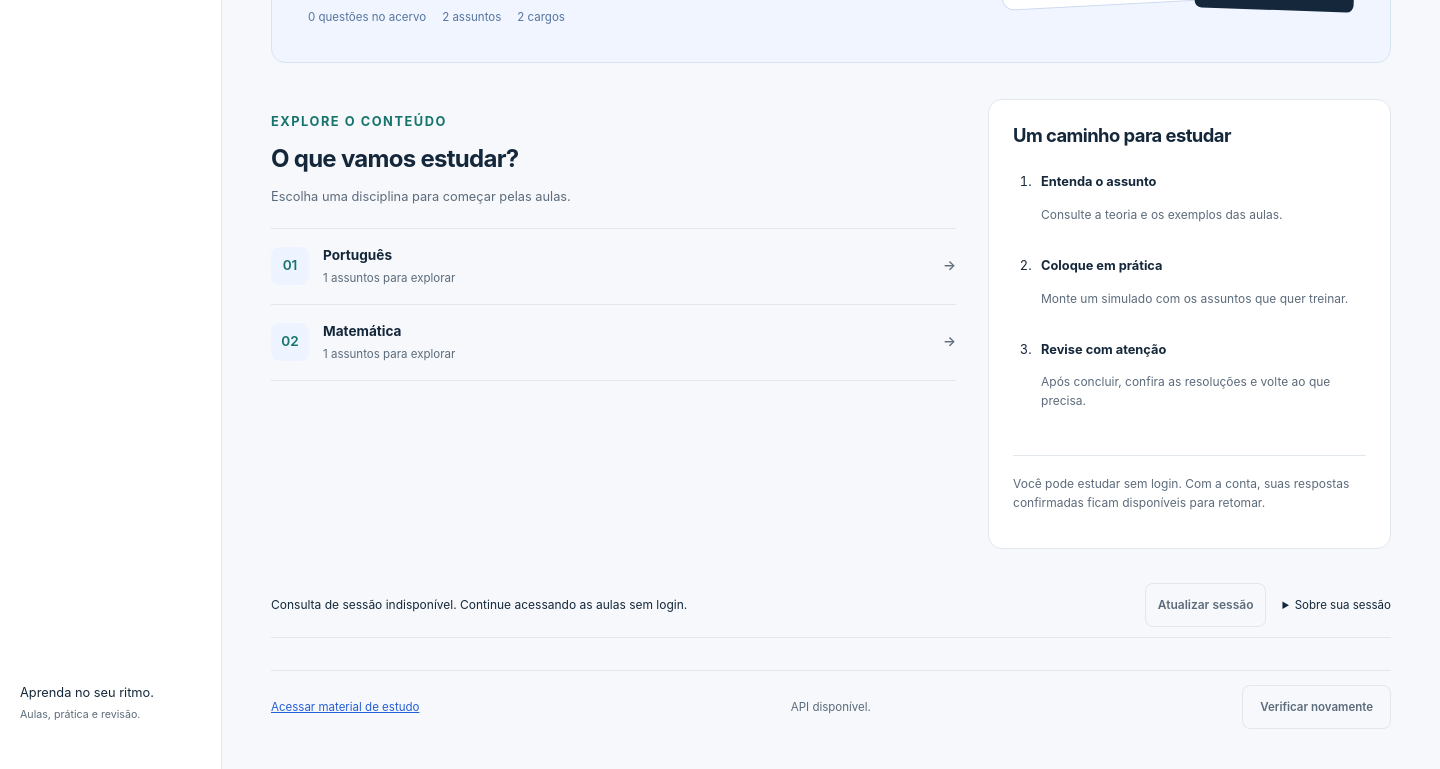
UI recupera de JSON pendente em /auth/config e mantém aulas/retry
The image size is (1440, 769).
(page scrolled)
Check: the link "Acessar material de estudo" is shown, box x1=271 y1=698 x2=419 y2=716
Check: the text "Consulta de sessão indisponível. Continue acessando as aulas sem login." is shown, box x1=271 y1=595 x2=687 y2=615
Click the button "Atualizar sessão" at (1206,605), box x1=1145 y1=583 x2=1266 y2=627
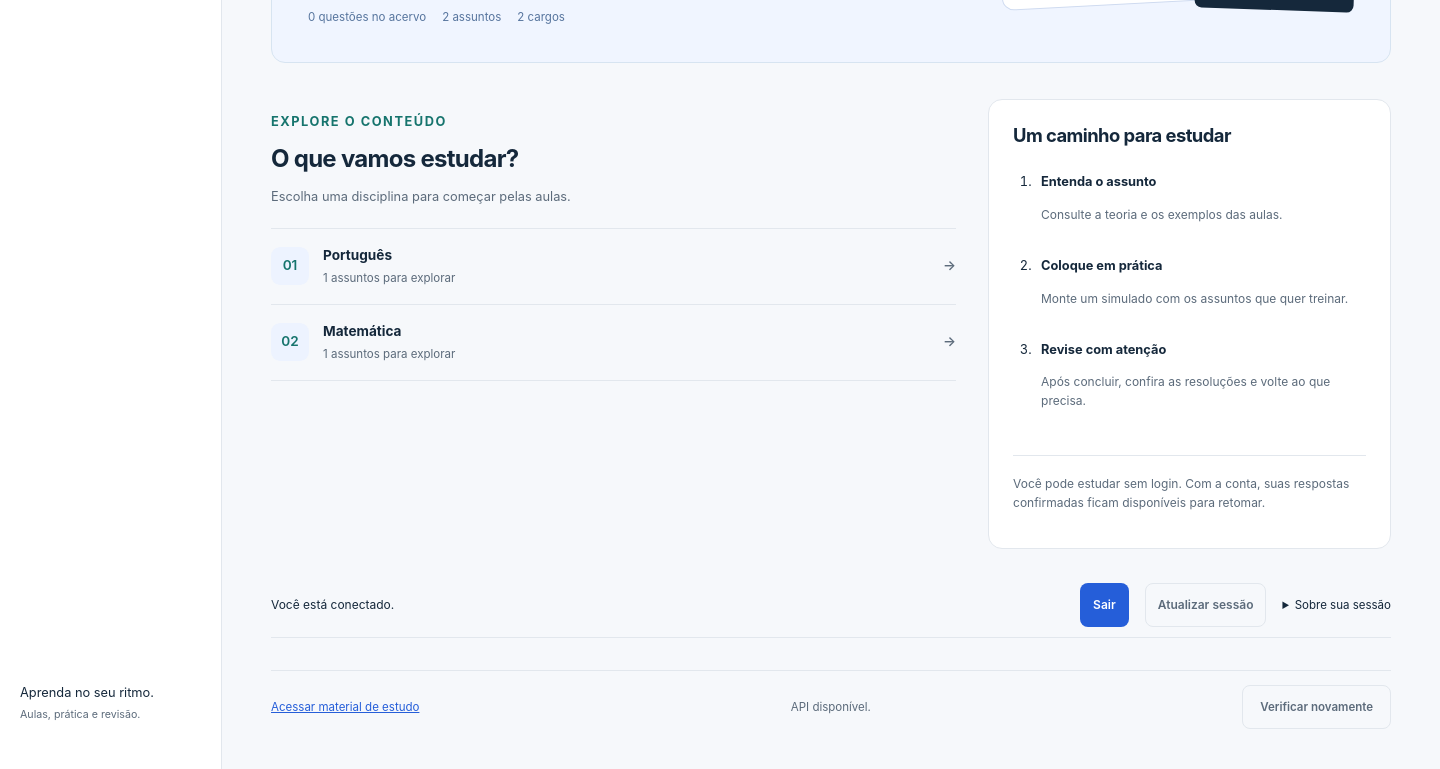
Check: the text "Você está conectado." is shown, box x1=271 y1=595 x2=394 y2=615
